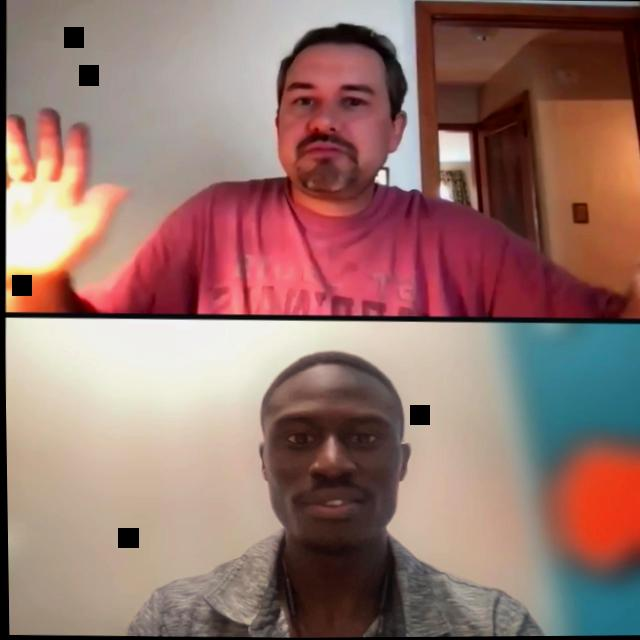NO-Mask: (251, 347, 411, 559), (268, 20, 405, 200)
